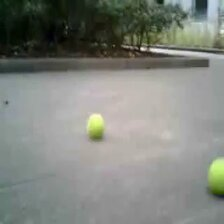tennis: (206, 156, 224, 193), (86, 114, 103, 136)
